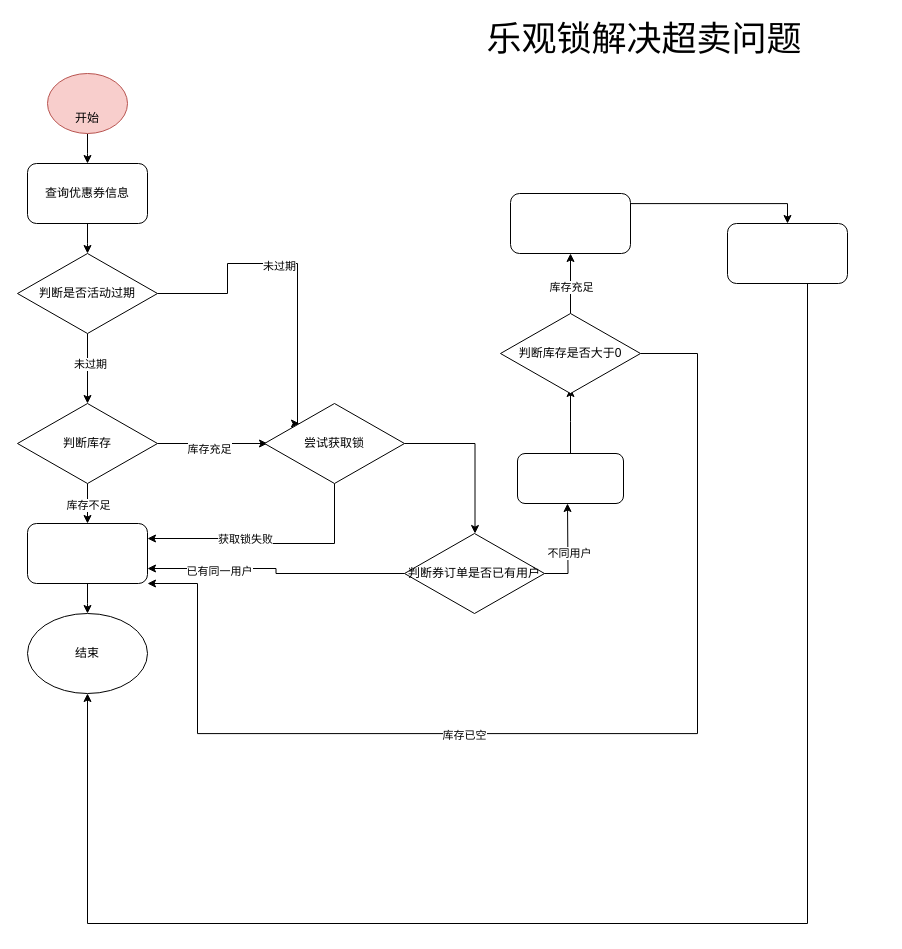
The diagram is 902 pixels wide and 949 high, and some of its shapes have lost their labels. The shapes that lost their labels are listed below. From the top down, each one's centre as x and y in pixels, then its label:
At pixel 570 223: "更新库存，并创建订单".
At pixel 787 253: "释放锁".
At pixel 570 478: "执行抢券业务".
At pixel 87 553: "抢券失败".
